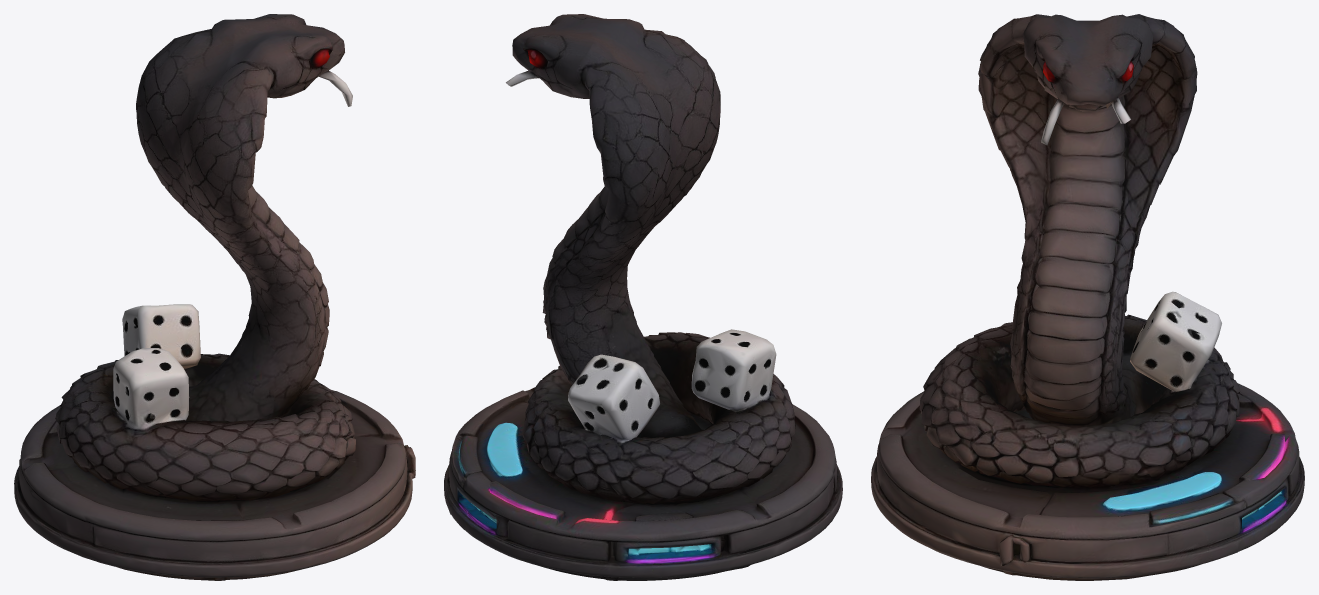
File: snake_eyes.glb
3 views of the same model, side by side, from view 1: azimuth 30°, elevation 25°; view 2: azimuth 150°, elevation 25°; view 3: azimuth 270°, elevation 25° (orthographic). The views are drawn at different scales.
Visible parts, largest first — view 1: tripo_node_9322e6b9-4bb4-4717-b3b0-2518e78087e5; view 2: tripo_node_9322e6b9-4bb4-4717-b3b0-2518e78087e5; view 3: tripo_node_9322e6b9-4bb4-4717-b3b0-2518e78087e5.
Part boxes in pixels (x1,y1,x2,y2): tripo_node_9322e6b9-4bb4-4717-b3b0-2518e78087e5: [14, 14, 415, 580]; tripo_node_9322e6b9-4bb4-4717-b3b0-2518e78087e5: [444, 14, 842, 580]; tripo_node_9322e6b9-4bb4-4717-b3b0-2518e78087e5: [871, 14, 1304, 580].
Bounding box in the file's own units: 0.7629 × 0.9809 × 0.7624.
1 material, 1 textured.
